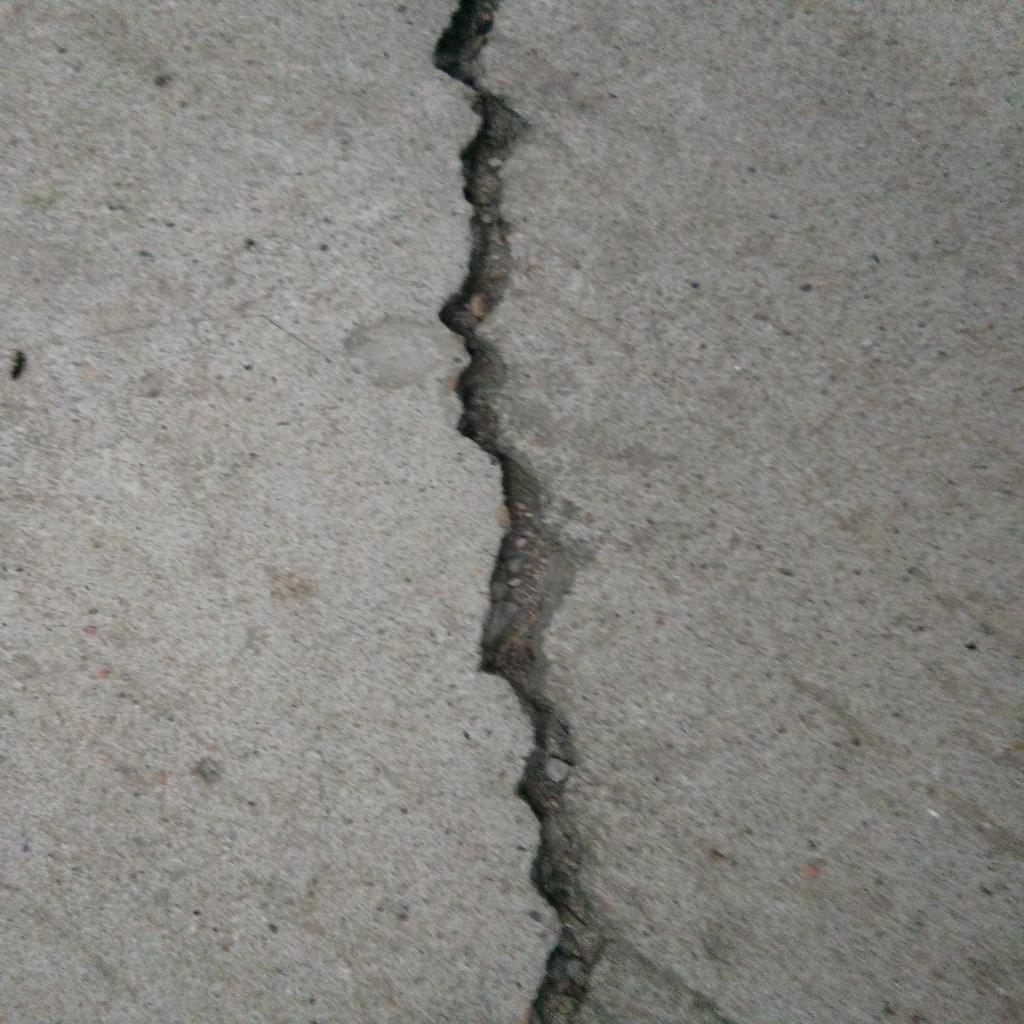Crack: (430, 1, 607, 1024)
